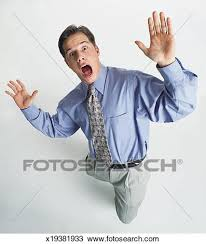white_male: (57, 41, 102, 86)
